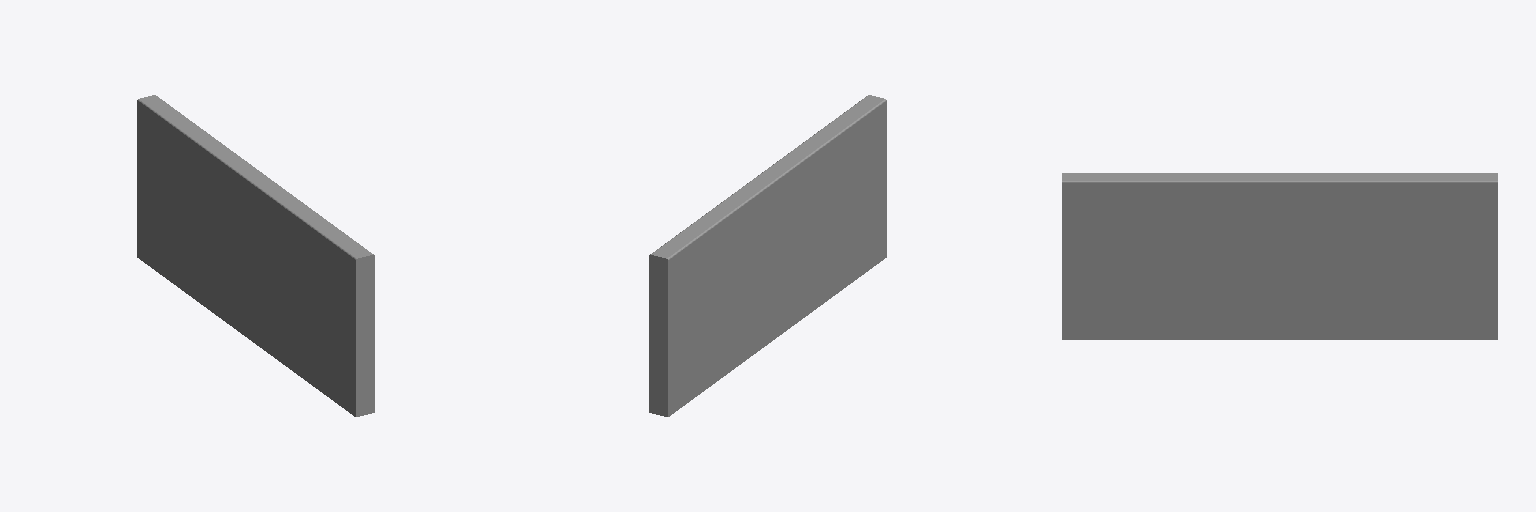
The model's file is wall3.obj.
3 views of the same model, side by side, from view 1: azimuth 30°, elevation 25°; view 2: azimuth 150°, elevation 25°; view 3: azimuth 270°, elevation 25° (orthographic).
Visible parts, largest first — view 1: Cube; view 2: Cube; view 3: Cube.
Part boxes in pixels (x1,y1,x2,y2): Cube: (137, 95, 374, 416); Cube: (649, 95, 886, 416); Cube: (1062, 173, 1497, 339).
Bounding box in the file's own units: 0.5 × 4 × 10.